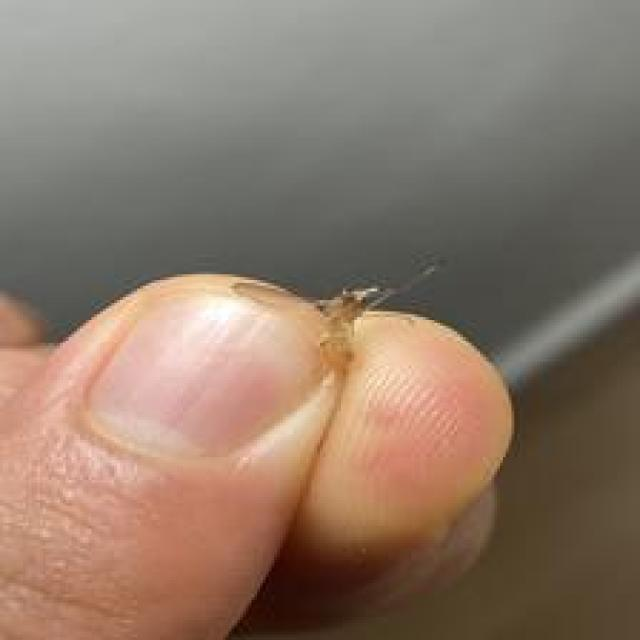Culex: (228, 253, 443, 384)
